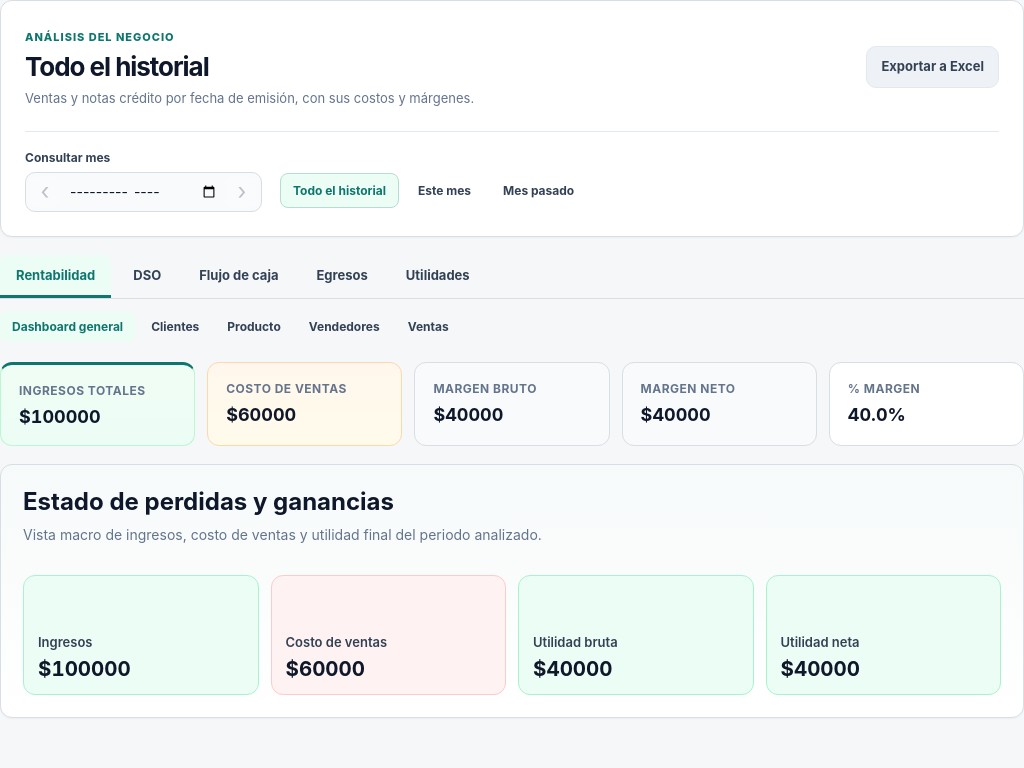
Test: monthly reports › groups daily utility and cashflow into months without changing totals and exports the selected grouping
What coordinates should you click on to do the following:
click the tab "Utilidades"
I would click on:
 (438, 276)
Its box is [390,255,486,298].
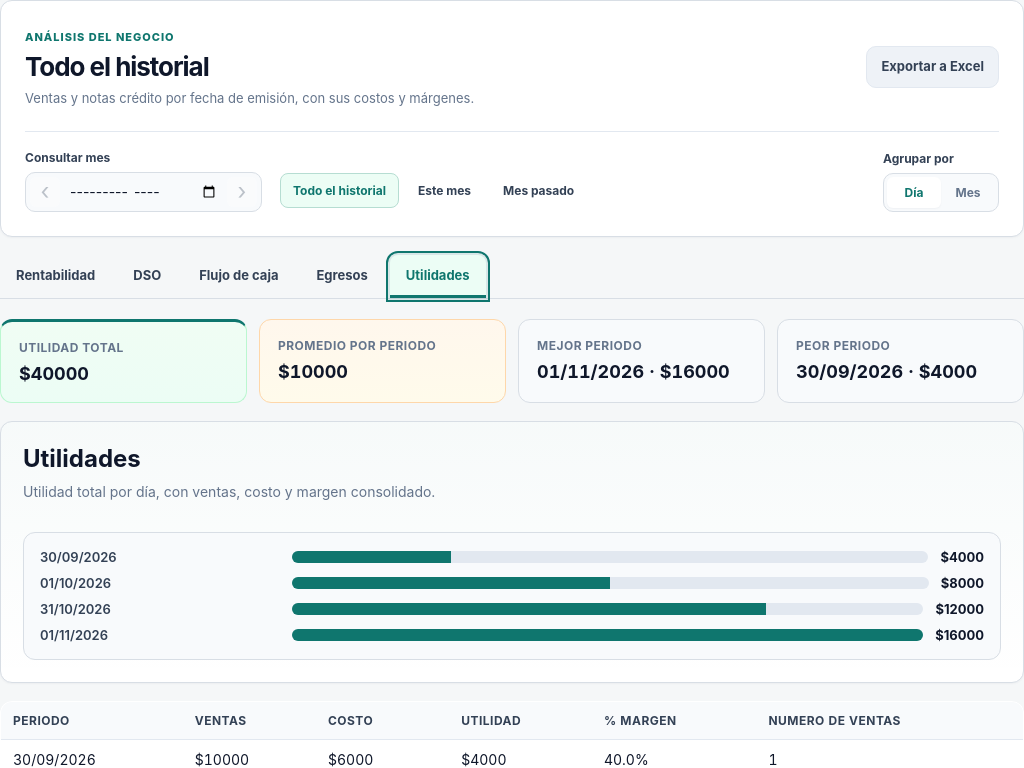
Result: the number of rows is 5
What coordinates should you click on to do the following:
click the radio button labelled "Mes"
I would click on:
 (968, 192)
Its box is [956,185,981,200].
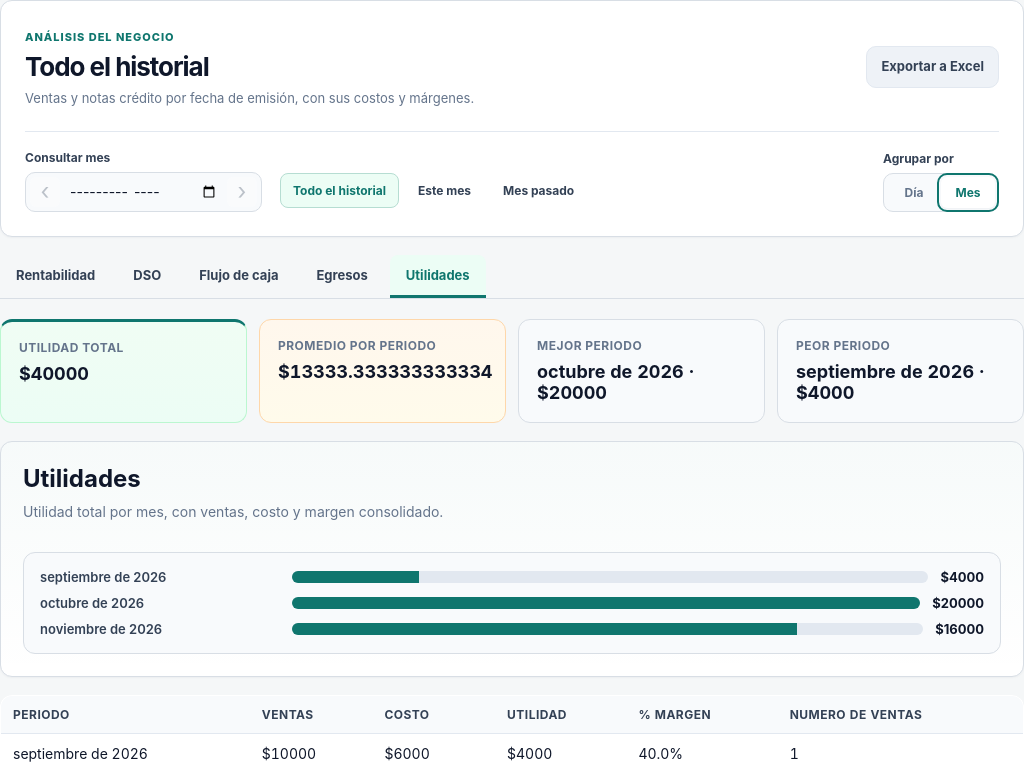
Result: the text "Utilidad total" shows "$40000" at [19,363,89,384]
Result: the number of rows is 4
What coordinates should you click on to do the following:
click the button "Exportar a Excel"
I would click on:
 (933, 67)
Its box is [866,46,999,88].
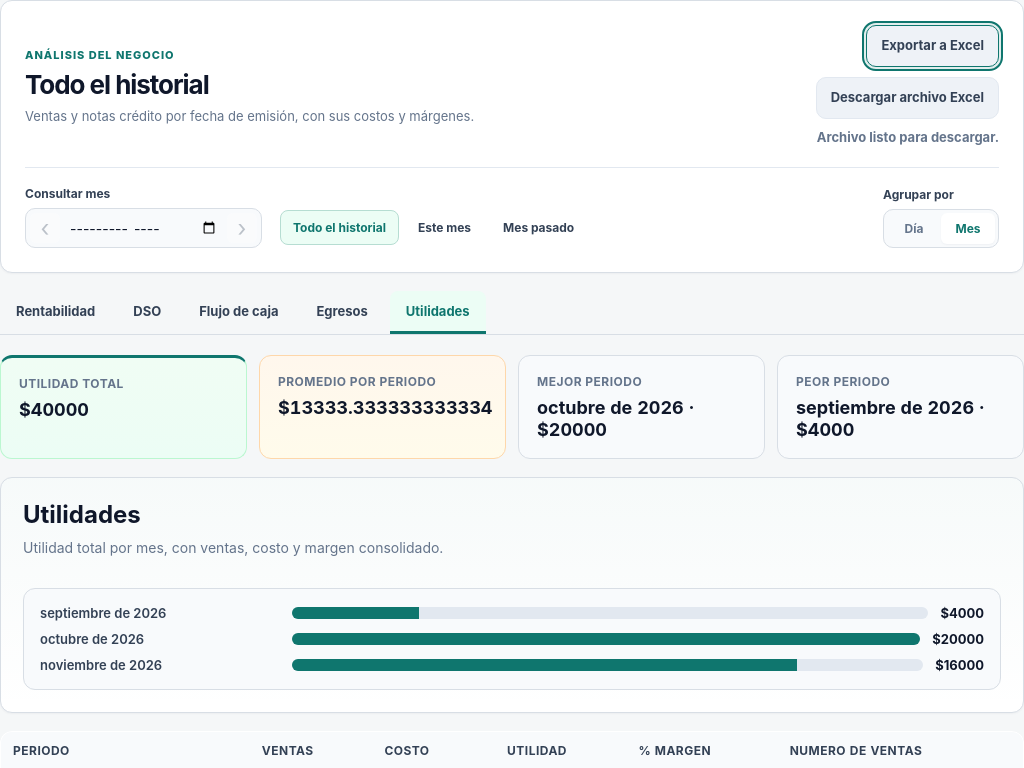
What coordinates should you click on to do the following:
click the tab "Flujo de caja"
I would click on:
 (239, 312)
Its box is [183,291,294,334].
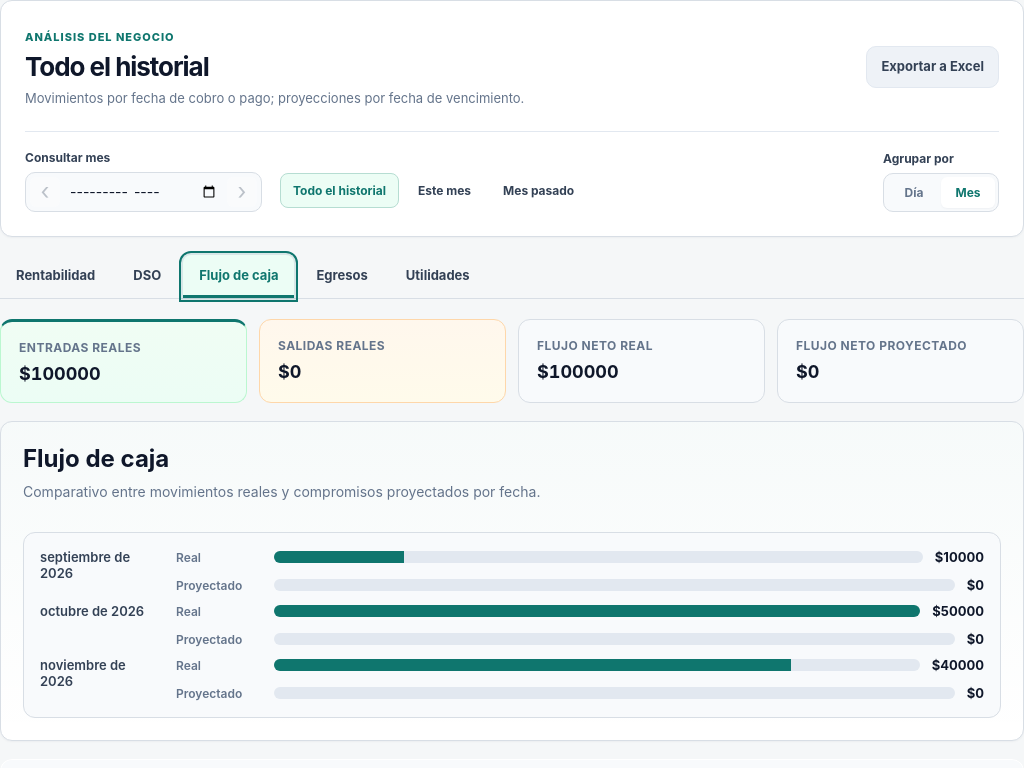
Result: the number of elements with class "cashflow-chart-row" is 3 at [40,549,984,593]; [40,603,984,647]; [40,657,984,701]
Result: the text "Entradas reales" shows "$100000" at [19,363,101,384]
